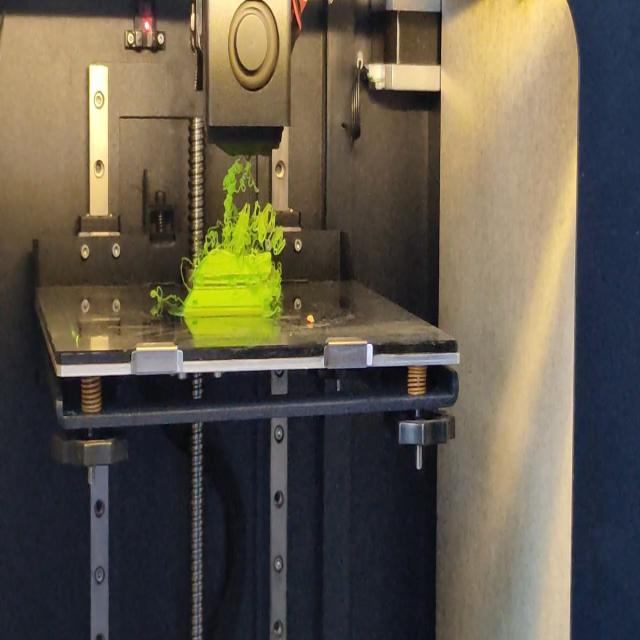spaghetti: (204, 156, 288, 258), (149, 284, 185, 303), (178, 254, 192, 292), (272, 303, 284, 316)
